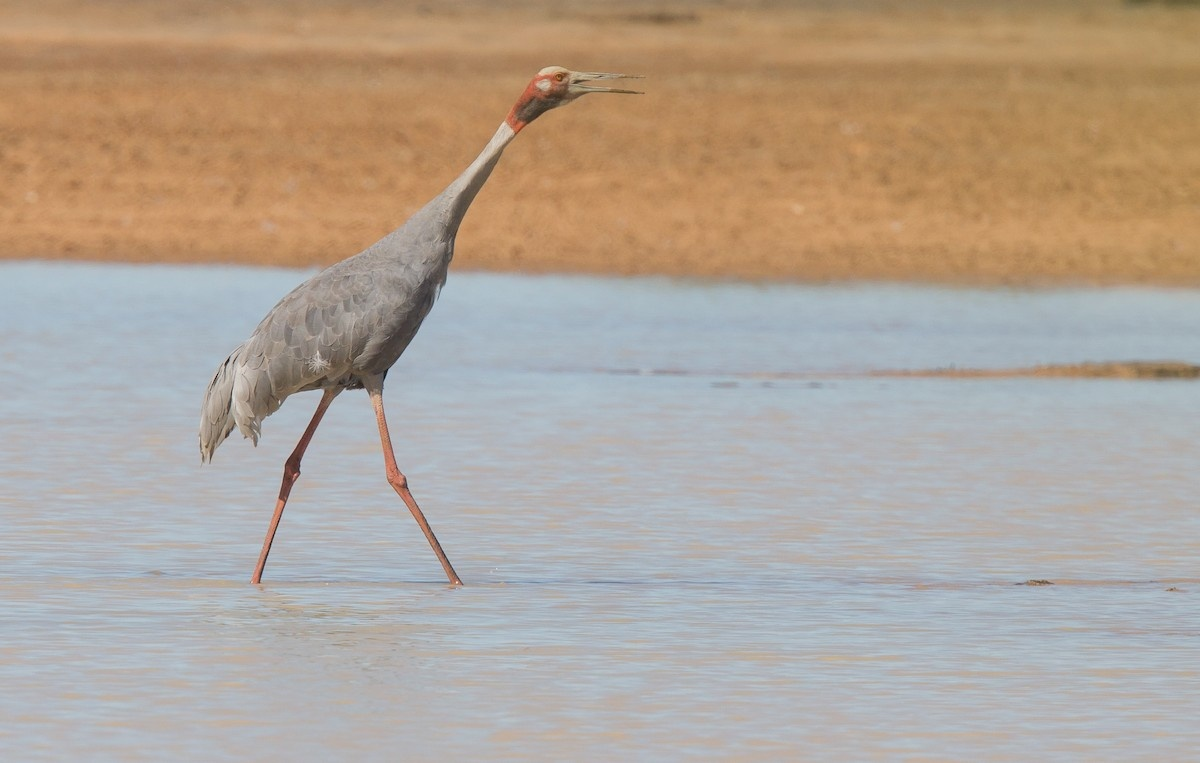crane: (185, 44, 654, 613)
